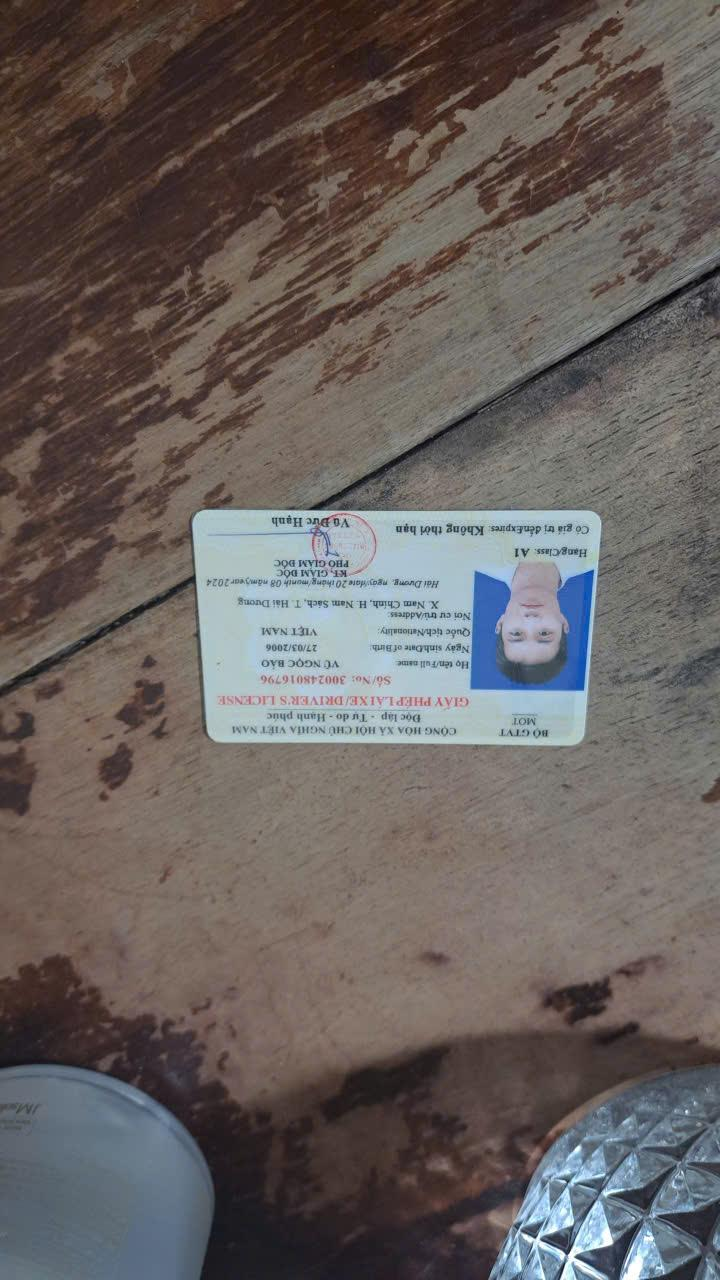gplx: (190, 505, 608, 755)
